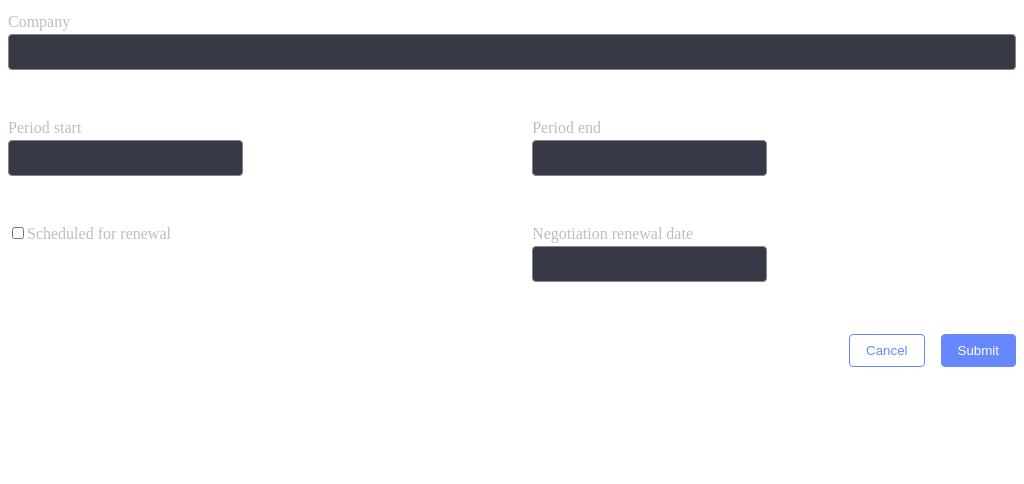
Test: ContractForm test suite › Fails to submit when company name is not filled
Set mandatory period start date
Click the field labelled "Period start": (125, 158) [8,140,243,176]
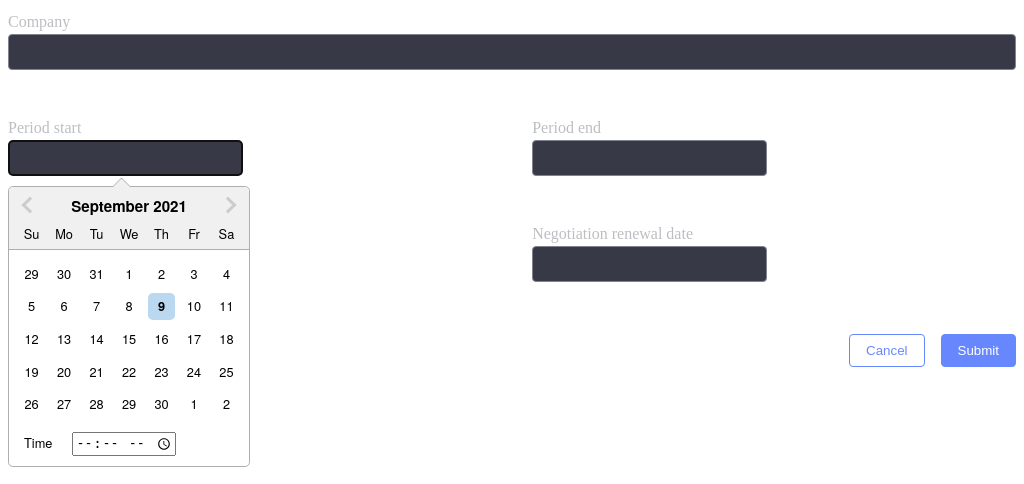
Click the option "9": (162, 307) [148,293,175,320]
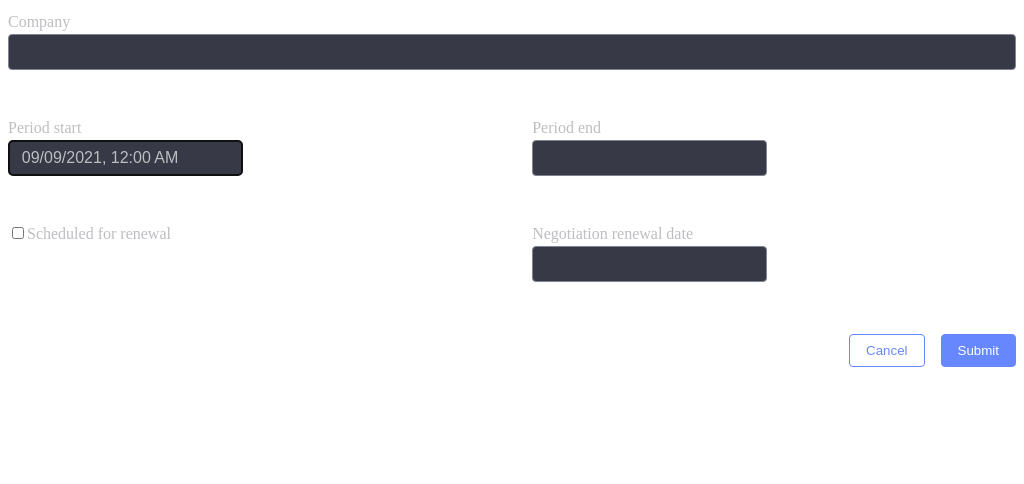
Set mandatory period end date
Click the field labelled "Period end": (650, 158) [532,140,767,176]
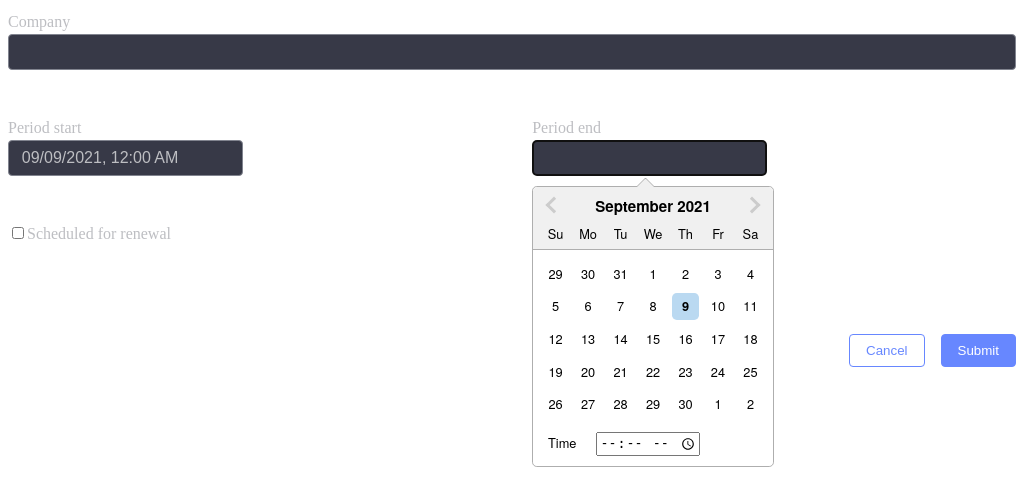
Click the option "10": (718, 306) [711,296,725,315]
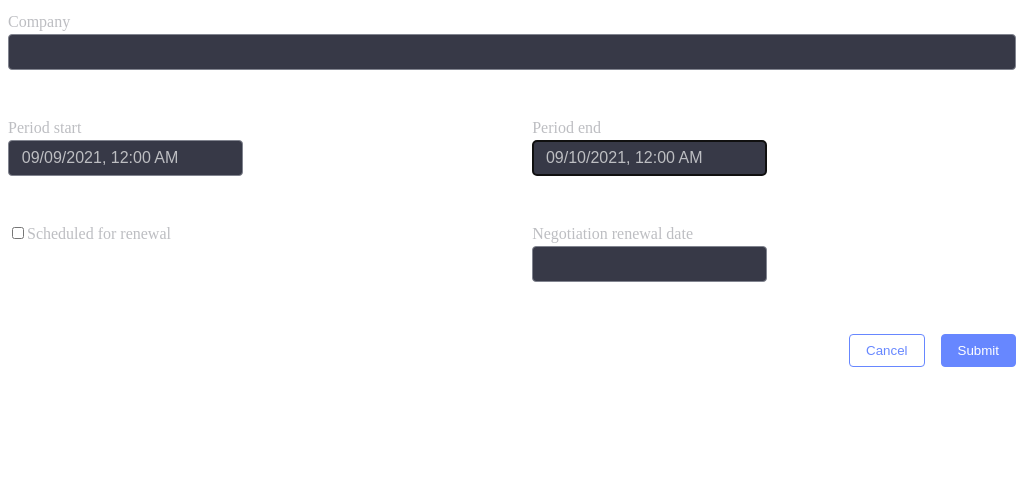
Submit the form
Click the button "Submit": (978, 350) [940,334,1016,367]
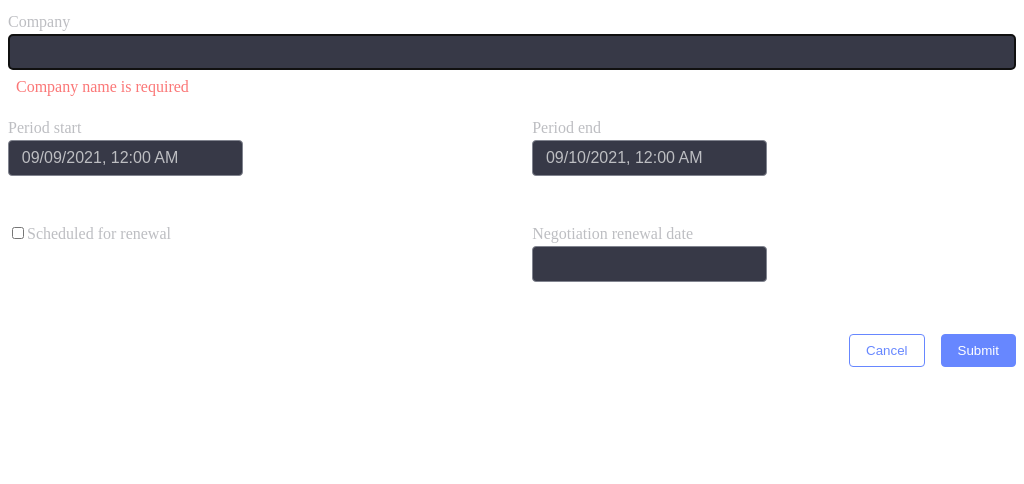
Expected: the text "Company name is required" is shown, [16,78,189,95]
